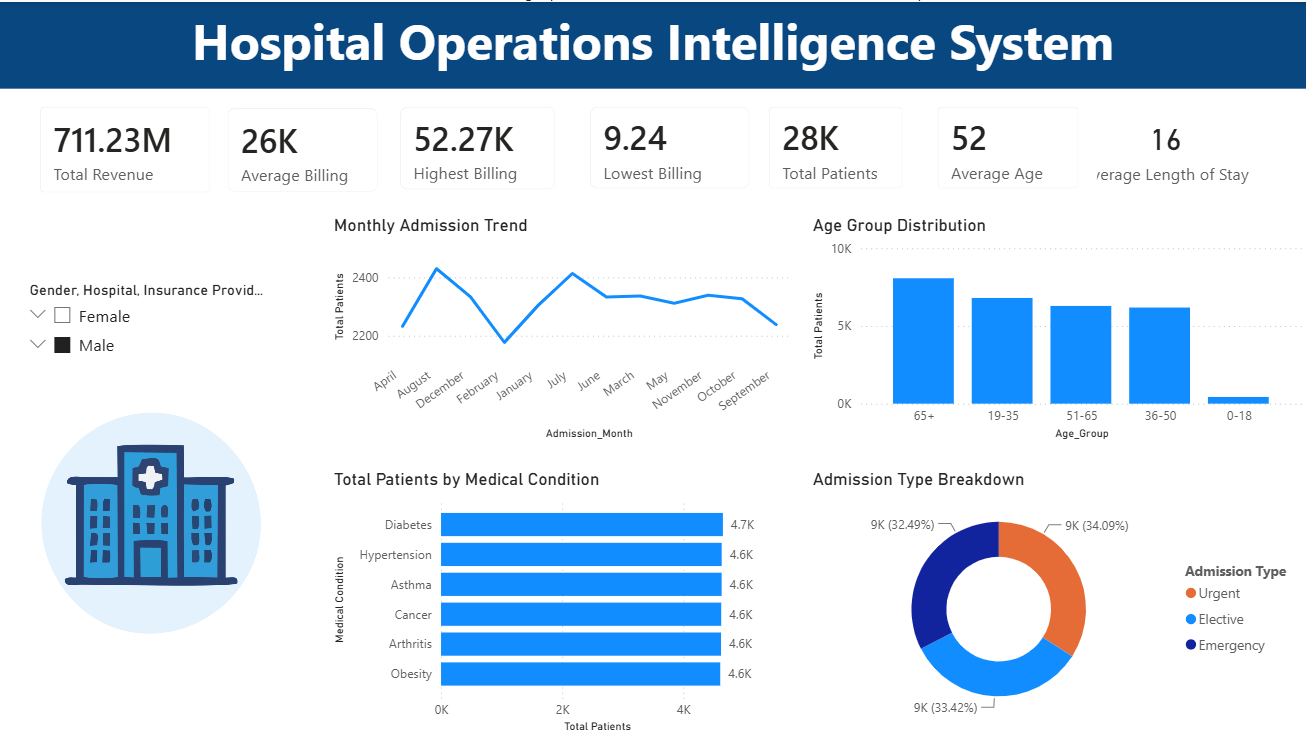

The page's visual inventory and layout, read from the dashboard file:
{"tool":"powerbi","page":{"name":"Executive Dashboard","canvas":[1280,720],"ordinal":0},"visuals":[{"type":"cardVisual","fields":{"Data":["healthcare_analytics_final.Total Patients"]},"box":[736.1,85.6,165.1,114.9],"z":0},{"type":"card","fields":{"Values":["healthcare_analytics_final.Average Length of Stay"]},"box":[1050.3,86.6,181.8,114],"z":1000},{"type":"cardVisual","fields":{"Data":["healthcare_analytics_final.Average Age"]},"box":[901.2,85.6,172.4,114.9],"z":2000},{"type":"cardVisual","fields":{"Data":["healthcare_analytics_final.Average Billing"]},"box":[206.3,86.6,181.8,116.9],"z":3000},{"type":"cardVisual","fields":{"Data":["healthcare_analytics_final.Highest Billing"]},"box":[375.1,85.1,186.1,115.4],"z":4000},{"type":"cardVisual","fields":{"Data":["healthcare_analytics_final.Lowest Billing"]},"box":[561.3,85.6,190.8,114.9],"z":5000},{"type":"clusteredBarChart","fields":{"Category":["healthcare_analytics_final.Medical Condition"],"Y":["healthcare_analytics_final.Total Patients"]},"box":[323.2,455.9,428.5,264],"z":6000},{"type":"donutChart","title":"Admission Type Breakdown","fields":{"Category":["healthcare_analytics_final.Admission Type"],"Y":["healthcare_analytics_final.Total Patients"]},"box":[790.6,455.9,489.1,256.8],"z":7000},{"type":"lineChart","title":"Monthly Admission Trend","fields":{"Category":["healthcare_analytics_final.Admission_Month"],"Y":["healthcare_analytics_final.Total Patients"]},"box":[323.2,207.8,455.9,225.1],"z":8000},{"type":"clusteredColumnChart","title":"Age Group Distribution","fields":{"Category":["healthcare_analytics_final.Age_Group"],"Y":["healthcare_analytics_final.Total Patients"]},"box":[790.6,207.8,489.1,225.1],"z":9000},{"type":"slicer","fields":{"Values":["healthcare_analytics_final.Gender","healthcare_analytics_final.Hospital","healthcare_analytics_final.Insurance Provider","healthcare_analytics_final.Admission_Month"]},"box":[17.3,268.4,262.6,105.3],"z":10000},{"type":"textbox","box":[0,0,1279.7,85.1],"z":11000},{"type":"cardVisual","fields":{"Data":["healthcare_analytics_final.Total Revenue"]},"box":[23.1,85.1,200.5,118.3],"z":12000},{"type":"image","box":[0,373.7,297.2,271.2],"z":13000}]}

Visuals, with their boxes in screenshot pixels (x1, y1, x2, y2), scaled from the page's 1280x720 canvas onto the 1306x737 screenshot:
cardVisual - healthcare_analytics_final.Total Patients: region(751, 88, 920, 205)
card - healthcare_analytics_final.Average Length of Stay: region(1072, 89, 1257, 205)
cardVisual - healthcare_analytics_final.Average Age: region(920, 88, 1095, 205)
cardVisual - healthcare_analytics_final.Average Billing: region(210, 89, 396, 208)
cardVisual - healthcare_analytics_final.Highest Billing: region(383, 87, 573, 205)
cardVisual - healthcare_analytics_final.Lowest Billing: region(573, 88, 767, 205)
clusteredBarChart - healthcare_analytics_final.Medical Condition x healthcare_analytics_final.Total Patients: region(330, 467, 767, 736)
"Admission Type Breakdown" donutChart: region(807, 467, 1305, 730)
"Monthly Admission Trend" lineChart: region(330, 213, 795, 443)
"Age Group Distribution" clusteredColumnChart: region(807, 213, 1305, 443)
slicer - healthcare_analytics_final.Gender x healthcare_analytics_final.Hospital: region(18, 275, 286, 383)
textbox: region(0, 0, 1305, 87)
cardVisual - healthcare_analytics_final.Total Revenue: region(24, 87, 228, 208)
image: region(0, 383, 303, 660)
